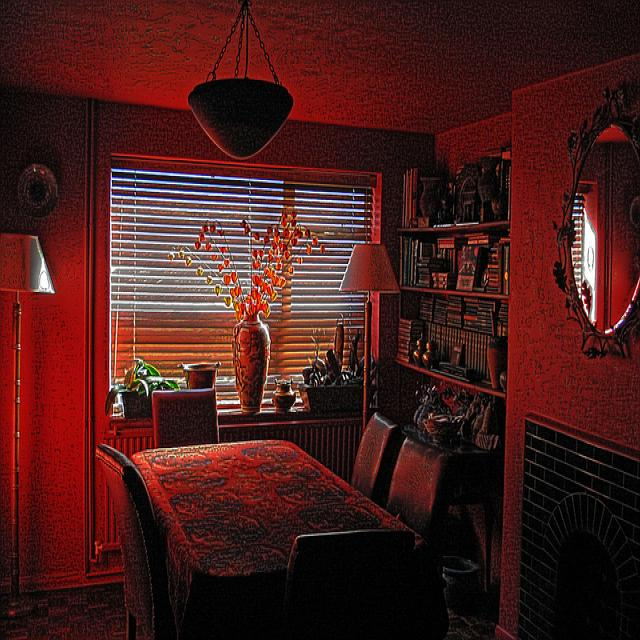chair: (94, 442, 172, 640), (285, 529, 415, 640), (388, 437, 447, 543), (349, 411, 396, 499), (152, 388, 219, 448)
dining table: (131, 440, 448, 640)
